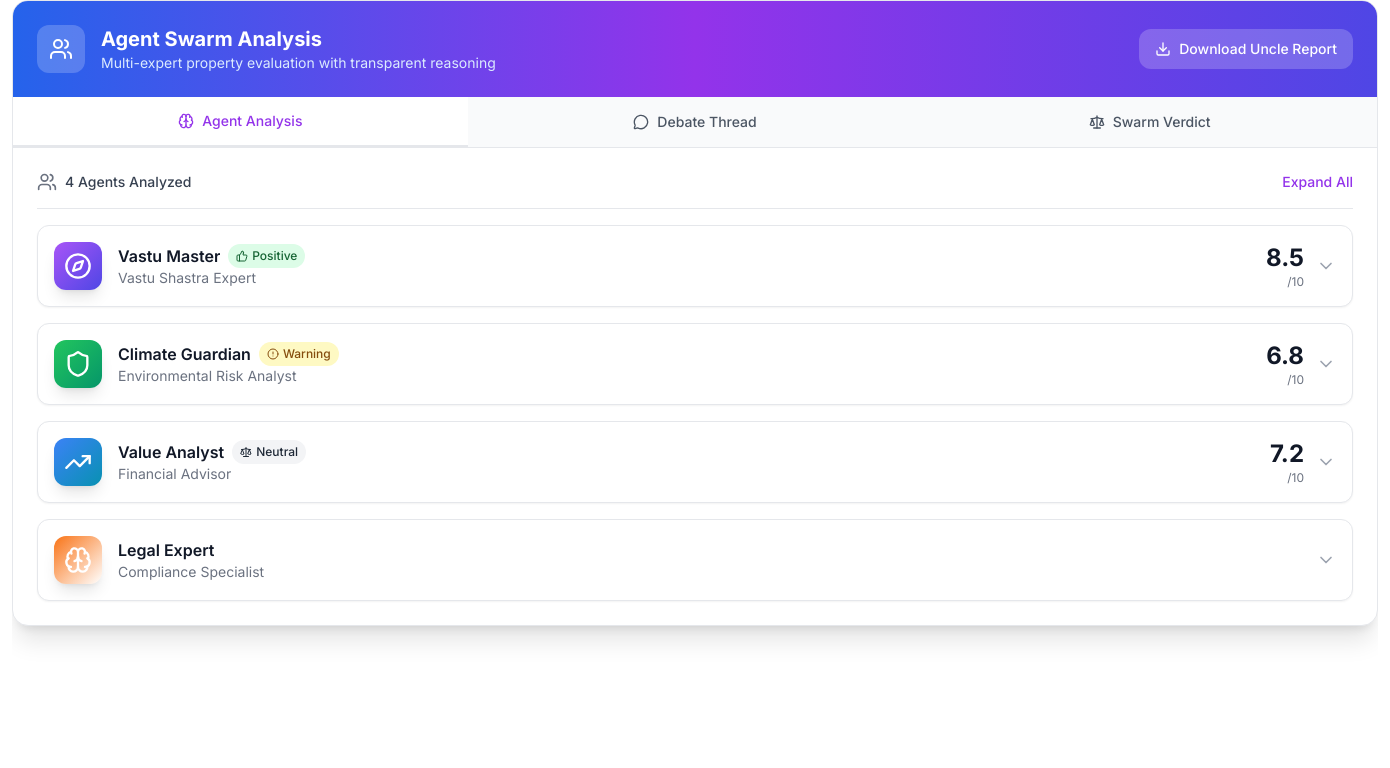
Test: DebatePanel Component › Tab Navigation › should switch to Debate Thread tab when clicked
Click the button "Debate Thread". click: [695, 122]
box: [468,97,922,147]
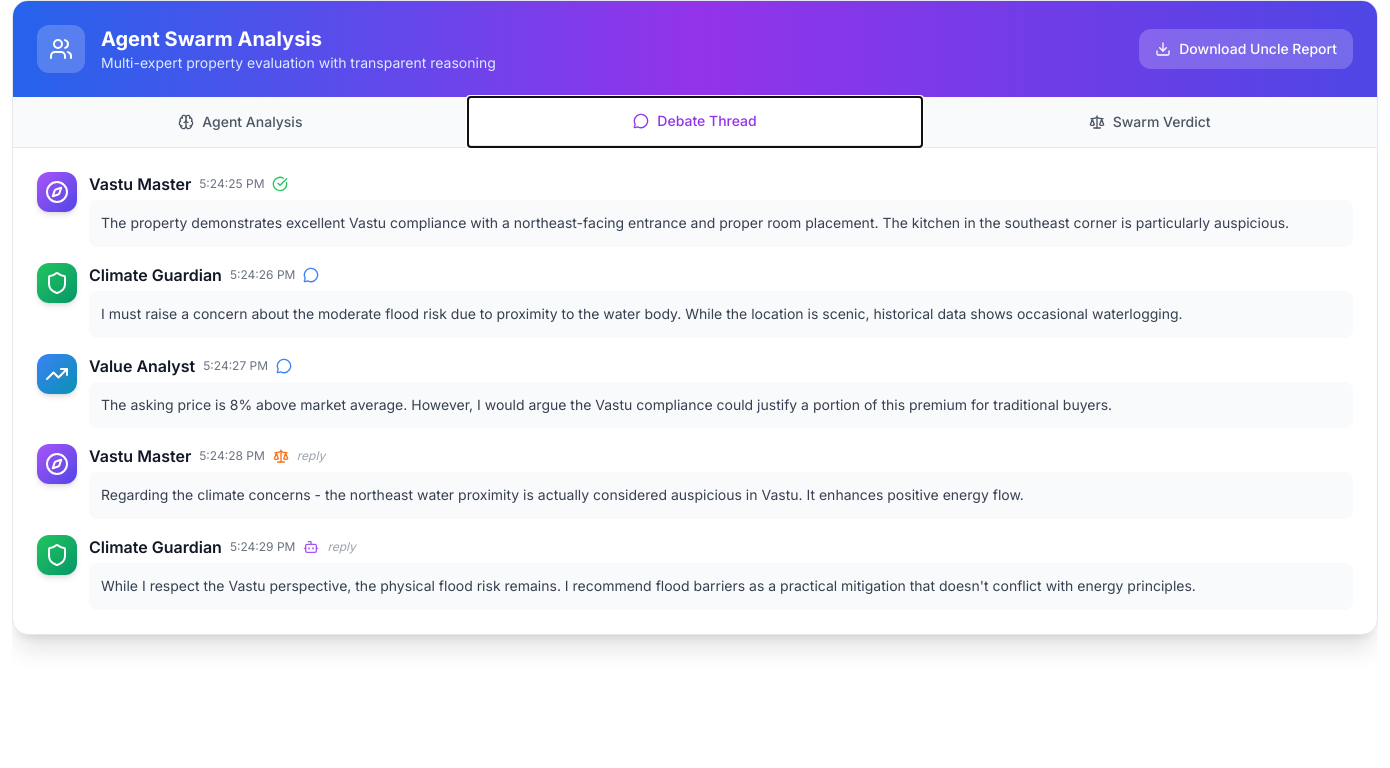
Result: the text "The property demonstrates excellent Vastu compliance" is shown at [101,214,1289,231]
